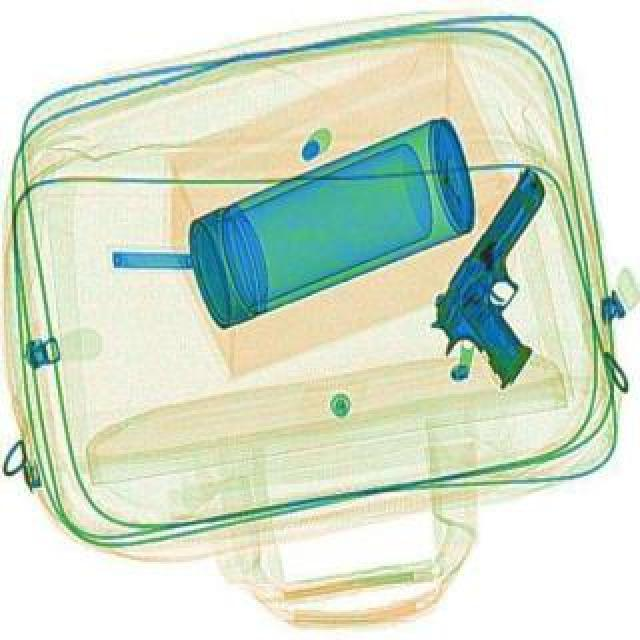gun: (410, 160, 618, 388)
